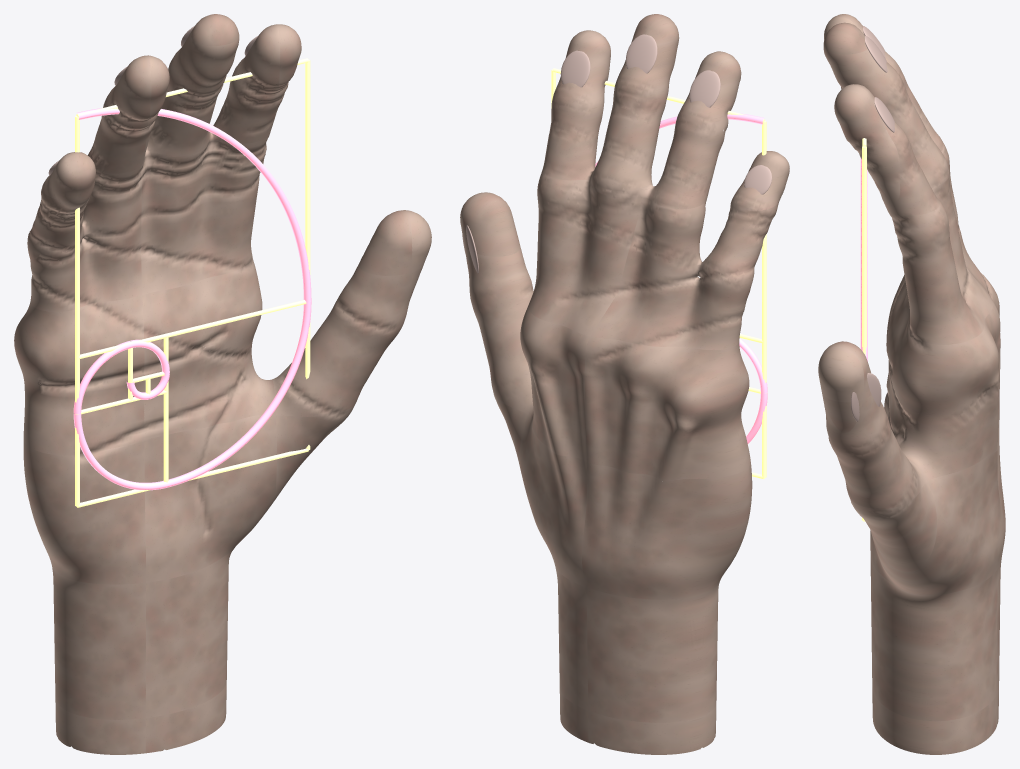
The model's file is hand.glb.
3 renders of one model, left to right at view 1: azimuth 30°, elevation 25°; view 2: azimuth 150°, elevation 25°; view 3: azimuth 270°, elevation 25°, orthographic. The views are drawn at different scales.
Bounding box in the file's own units: 0.0761 × 0.1477 × 0.0355.
Materials: 37 (1 with a texture image).
